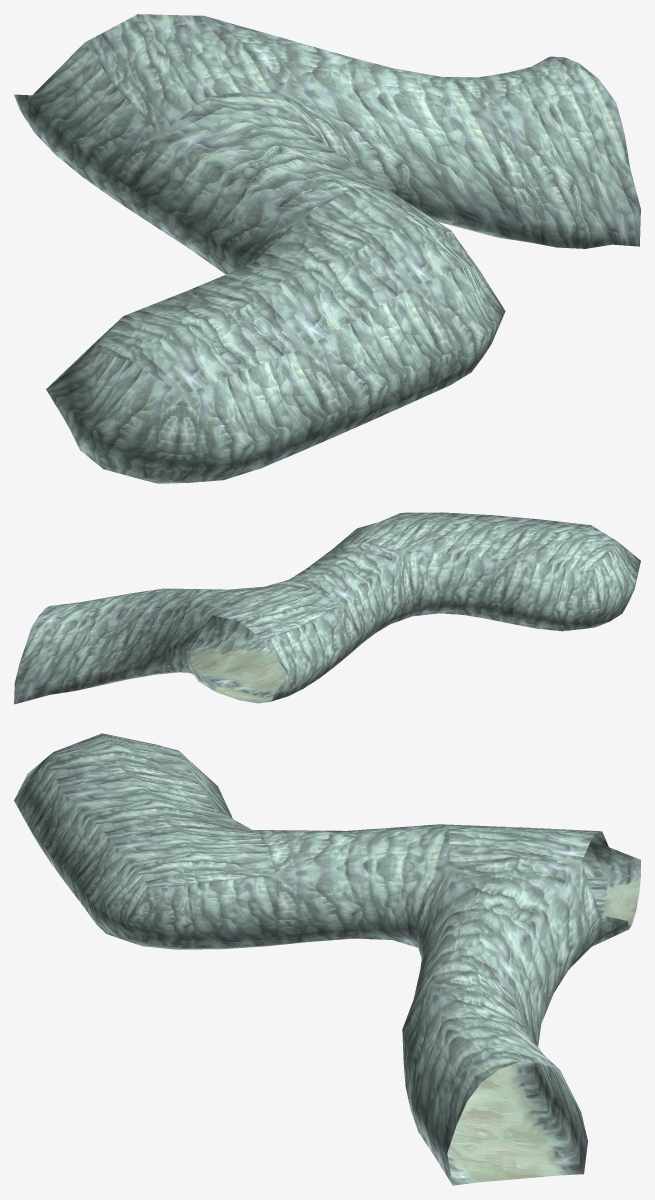
The model's file is TROLLHOLE02_PS-MAINCAVE07.fbx.
3 views of the same model, one above another, from view 1: azimuth 30°, elevation 25°; view 2: azimuth 150°, elevation 25°; view 3: azimuth 270°, elevation 25° (orthographic). The views are drawn at different scales.
Visible parts, largest first — view 1: TROLLHOLE02_PS-MAINCAVE07; view 2: TROLLHOLE02_PS-MAINCAVE07; view 3: TROLLHOLE02_PS-MAINCAVE07.
Part boxes in pixels (x1,y1,x2,y2): TROLLHOLE02_PS-MAINCAVE07: [14, 14, 640, 483]; TROLLHOLE02_PS-MAINCAVE07: [14, 512, 640, 704]; TROLLHOLE02_PS-MAINCAVE07: [14, 733, 640, 1185].
Size of the model in its own units: 352789 by 114213 by 323529.
Materials: 4 (4 with a texture image).
